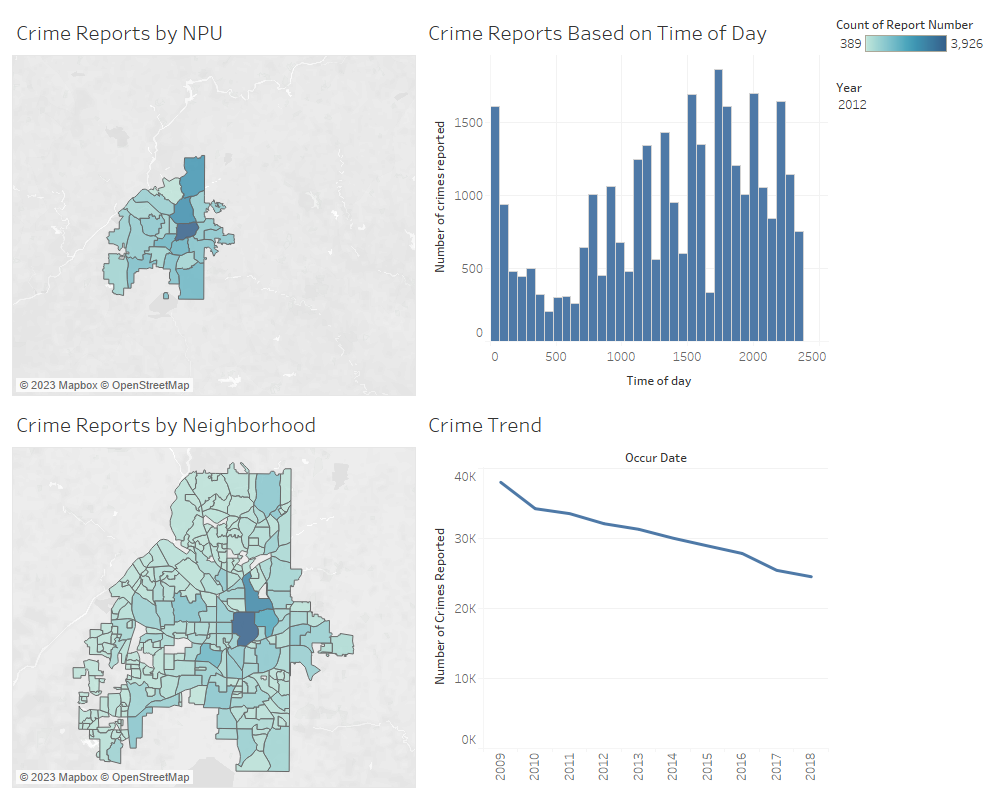

What the dashboard file says about the page in this screenshot:
{"tool":"tableau","page":{"name":"Dashboard 1","canvas":[1000,800],"ordinal":0},"visuals":[{"type":"worksheet","title":"Crime Reports by NPU","mark":"Automatic","box":[8,8,412,392]},{"type":"worksheet","title":"Crime Reports Based on Time of Day","mark":"Automatic","rows":["Occur Time"],"cols":["Occur Time (bin)"],"box":[420,8,412,392]},{"type":"legend","title":"Crime Reports by NPU","param":"[federated.0hp6jeo1658rzw118nyuk0pgq6uf].[cnt:Report Number:qk]","box":[832,8,160,65]},{"type":"filter","title":"Crime Reports by NPU","param":"[federated.0hp6jeo1658rzw118nyuk0pgq6uf].[yr:Occur Date:ok]","box":[832,73,160,75]},{"type":"worksheet","title":"Crime Reports by Neighborhood","mark":"Automatic","box":[8,400,412,392]},{"type":"worksheet","title":"Crime Trend","mark":"Automatic","rows":["Report Number"],"cols":["Occur Date"],"box":[420,400,412,392]}]}

Visuals, with their boxes in screenshot pixels (x1, y1, x2, y2), scaled from the page's 1000x800 canvas onto the 1000x800 screenshot:
"Crime Reports by NPU" worksheet: <box>8,8,420,400</box>
"Crime Reports Based on Time of Day" worksheet: <box>420,8,832,400</box>
"Crime Reports by NPU" legend: <box>832,8,992,73</box>
"Crime Reports by NPU" filter: <box>832,73,992,148</box>
"Crime Reports by Neighborhood" worksheet: <box>8,400,420,792</box>
"Crime Trend" worksheet: <box>420,400,832,792</box>
